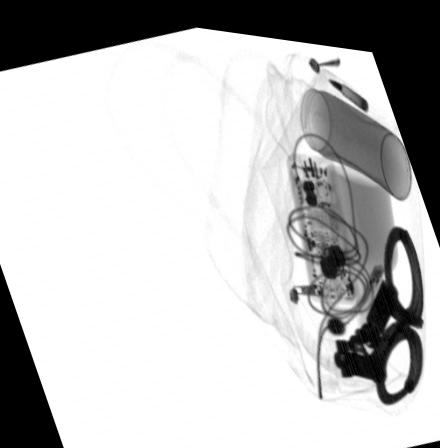Bullet: (326, 67, 368, 99)
HandCuffs: (333, 213, 426, 393)
